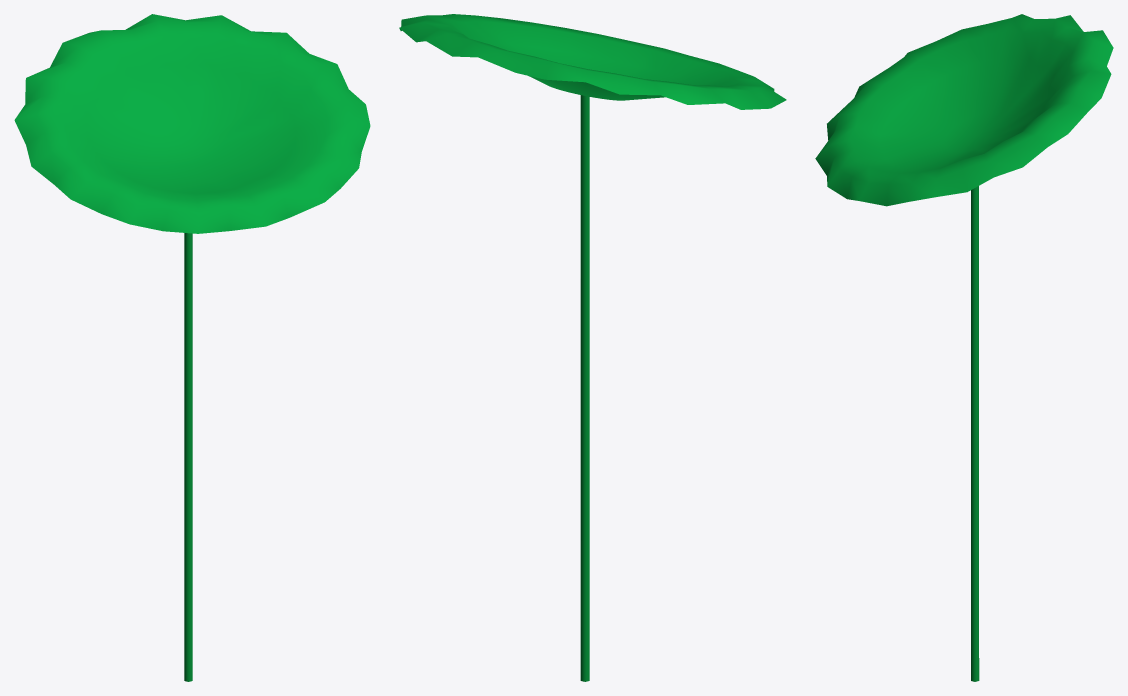
Rendered from LousLeaf_02.fbx.
3 views of the same model, side by side, from view 1: azimuth 30°, elevation 25°; view 2: azimuth 150°, elevation 25°; view 3: azimuth 270°, elevation 25° (orthographic). The views are drawn at different scales.
Visible parts, largest first — view 1: LousLeaf_2; view 2: LousLeaf_2; view 3: LousLeaf_2.
Part boxes in pixels (x1,y1,x2,y2): LousLeaf_2: (14,14,370,681); LousLeaf_2: (399,14,786,681); LousLeaf_2: (815,14,1113,681).
Size of the model in its own units: 3.99 by 7.29 by 3.15.
